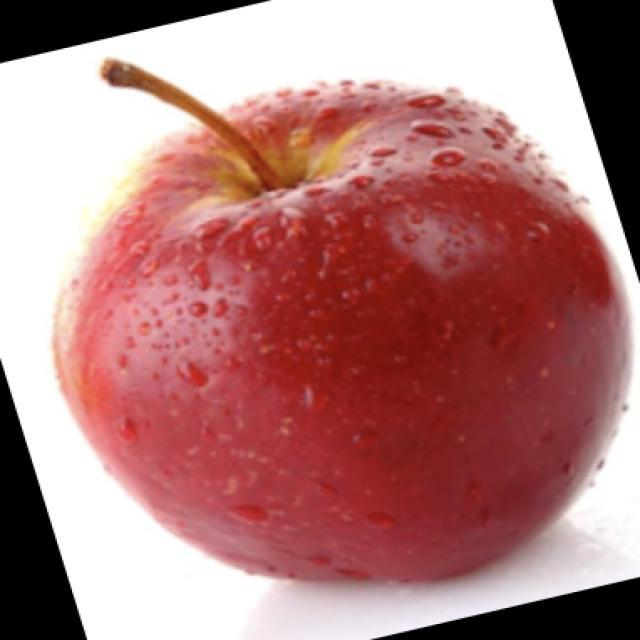Fresh Apple: (43, 77, 620, 593)
